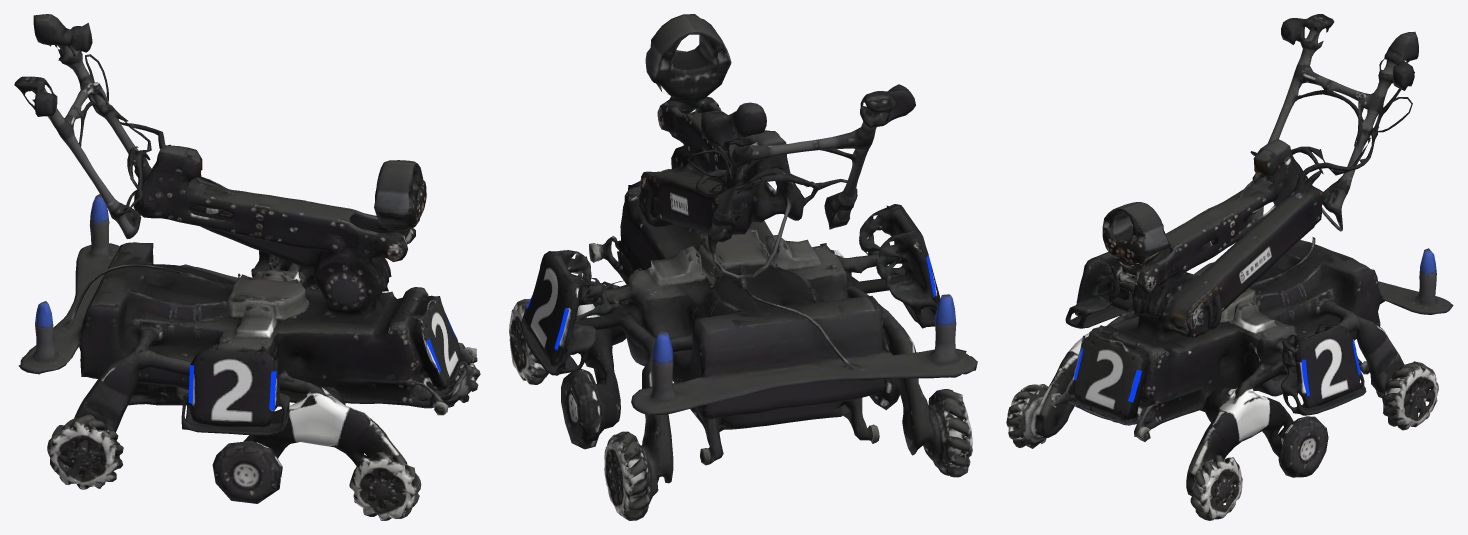
The model's file is engineer.gltf.
3 views of the same model, side by side, from view 1: azimuth 30°, elevation 25°; view 2: azimuth 150°, elevation 25°; view 3: azimuth 270°, elevation 25° (orthographic). The views are drawn at different scales.
Parts seen in each view (by area): view 1: engineer; view 2: engineer; view 3: engineer.
Boxes of the visible parts, left/top/right/bottom form: engineer: left=14, top=14, right=480, bottom=520; engineer: left=509, top=14, right=977, bottom=520; engineer: left=1006, top=14, right=1453, bottom=520.
Bounding box in the file's own units: 0.9245 × 0.7946 × 0.9118.
Materials: 2 (1 with a texture image).
